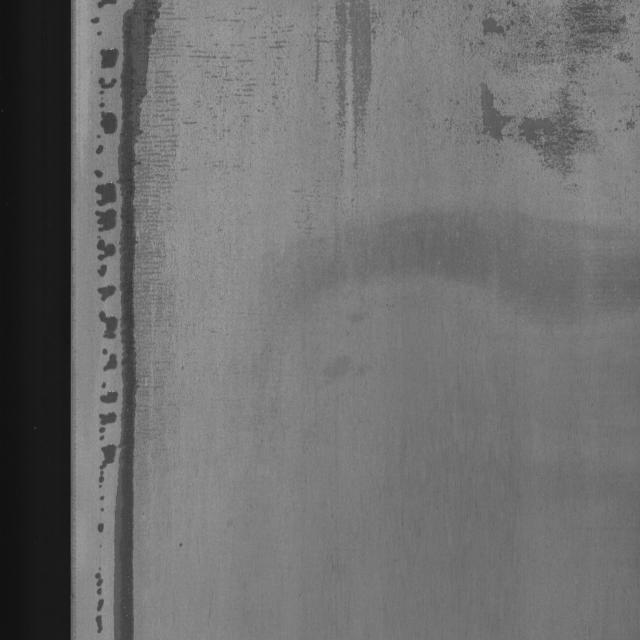welding_line: (92, 2, 166, 626), (471, 8, 640, 191), (306, 0, 410, 159)
